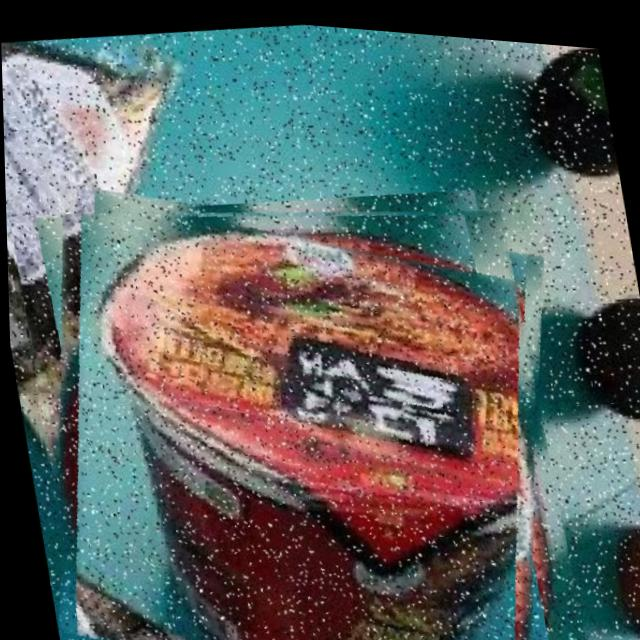Miscellaneous: (5, 141, 586, 640)
